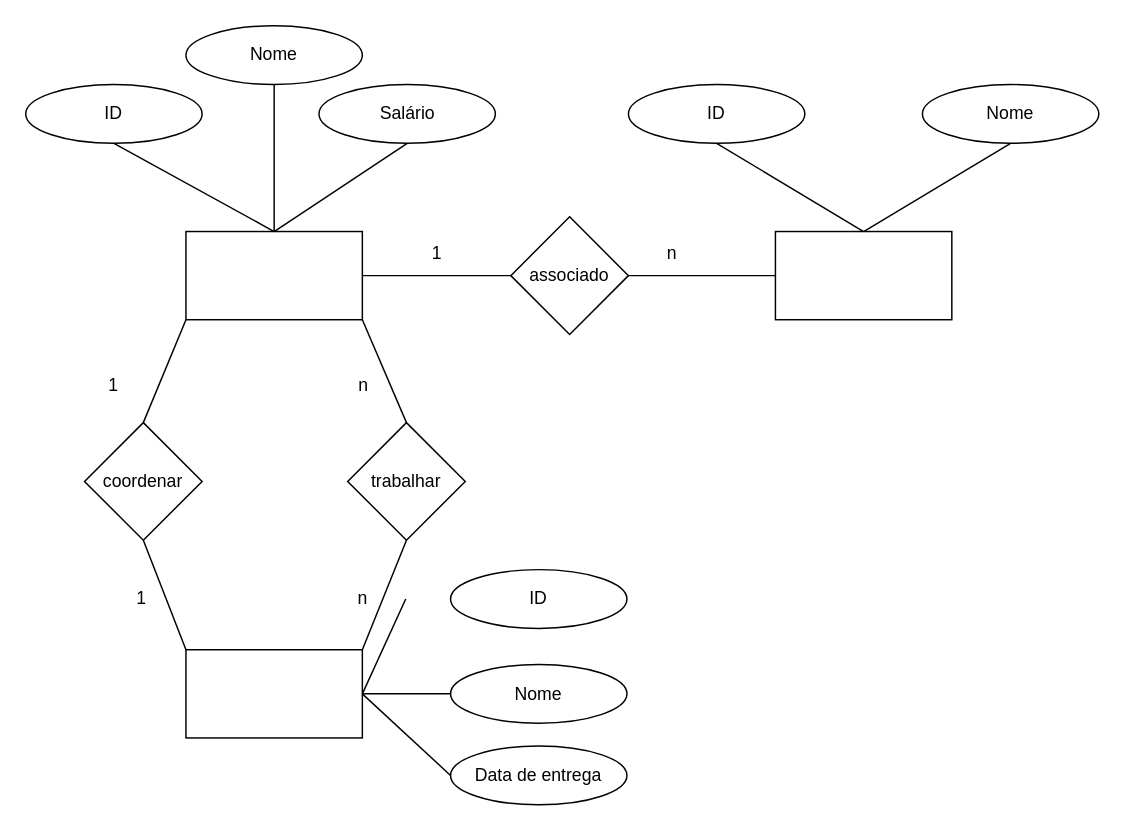
This 1125x831 diagram has some shape labels left out. The shapes that lost their labels are listed below. From the top down, each one's centre as x and y in pixels, then its label:
At [273,275]: "Funcionário".
At [863,275]: "Departamento".
At [273,693]: "Projeto".
